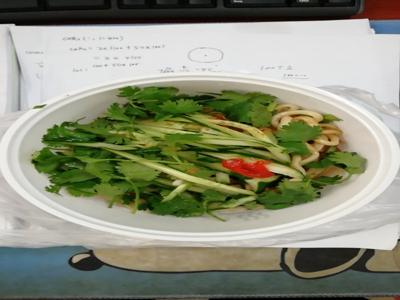lm: (83, 93, 328, 217)
